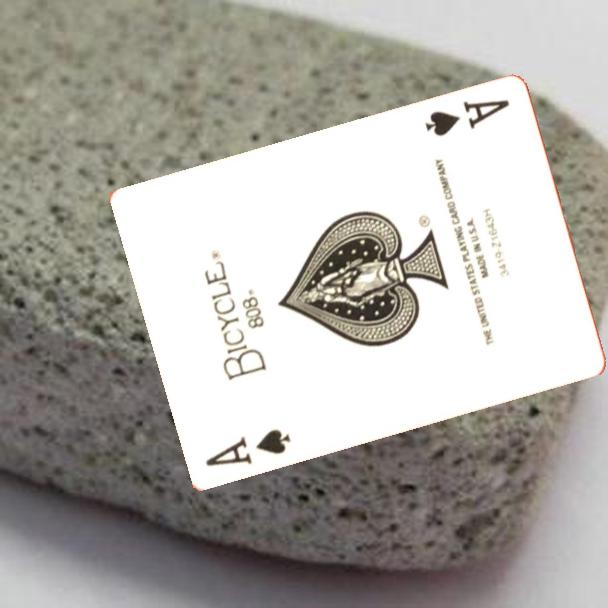s01: (201, 426, 294, 470), (421, 96, 512, 140)
